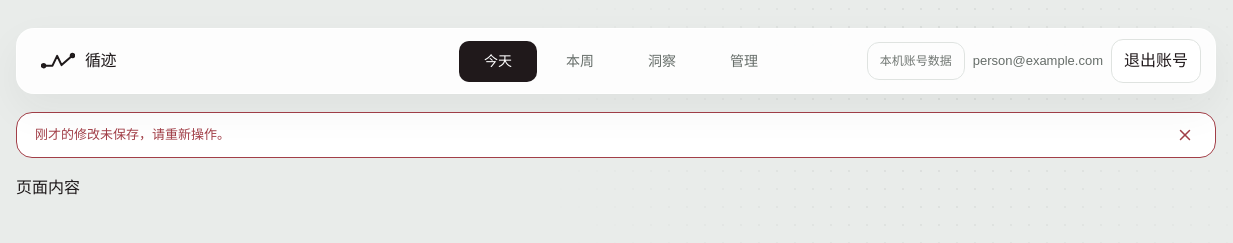
Test case: AppShell › reveals an underlying write error after dismissing a covering sign-out failure
Click the button "退出账号" at (1156, 61), box [1111,39,1201,83]
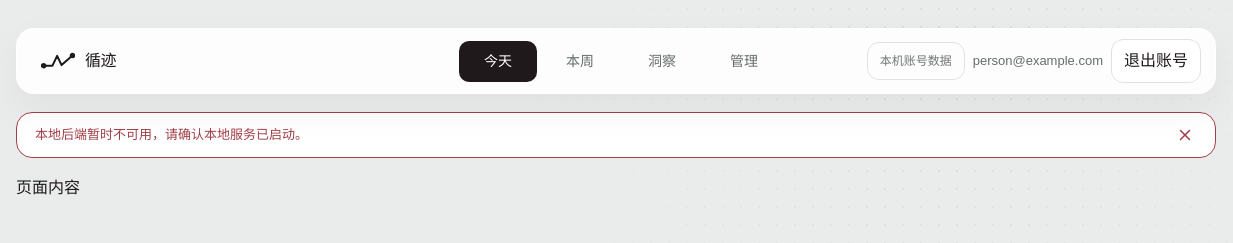
expect the message reads "本地后端暂时不可用，请确认本地服务已启动。": met, box [35,127,308,142]
Click the button named "关闭退出失败提示" at (1185, 135), box [1163,113,1207,157]
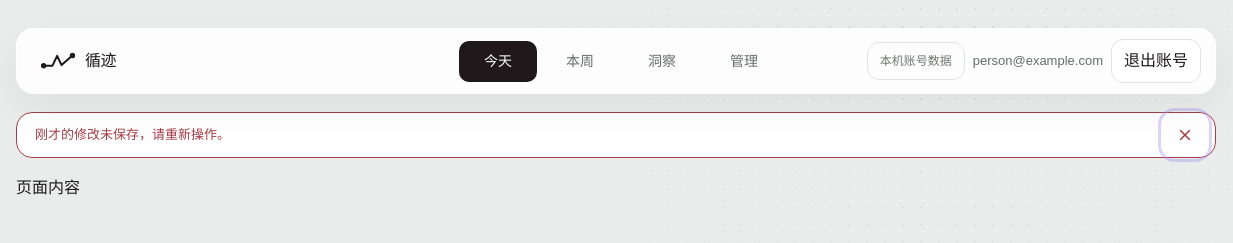
expect the message reads "刚才的修改未保存，请重新操作。": met, box [35,127,230,142]
Click the button named "关闭未保存提示" at (1185, 135), box [1163,113,1207,157]
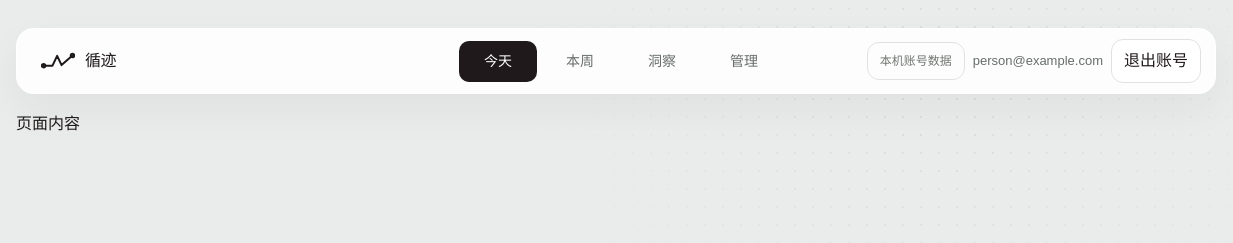
expect the message "刚才的修改未保存，请重新操作。" is gone: met
